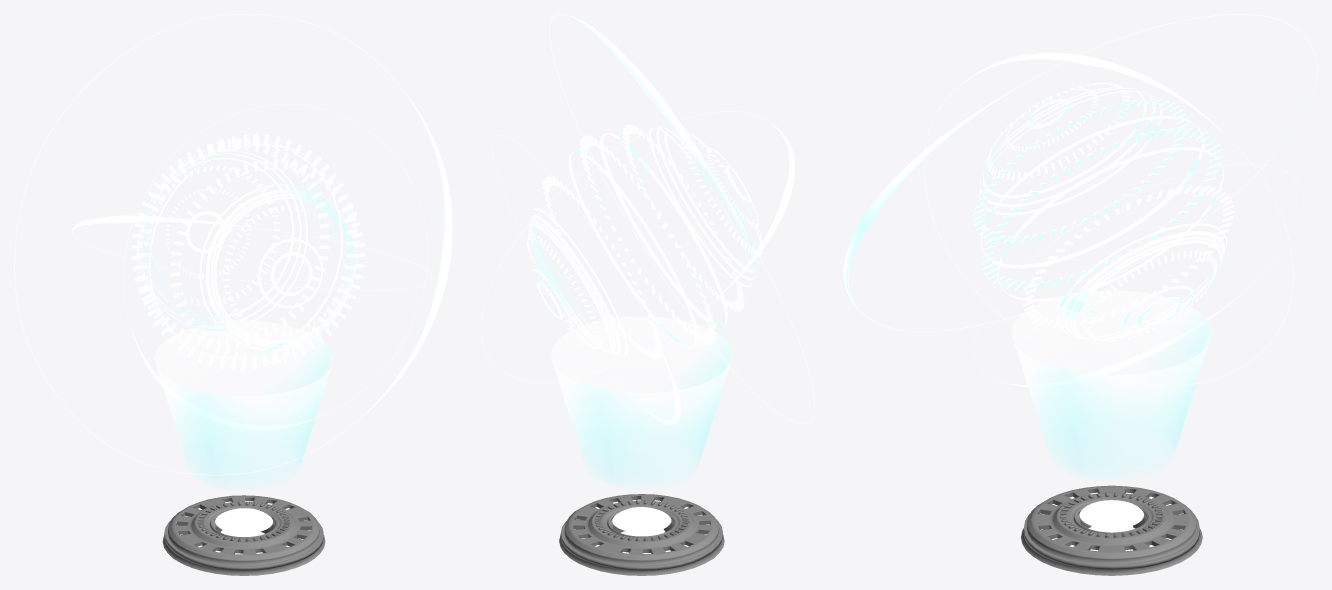
The picture shows the model from 3 angles, left to right: view 1: azimuth 30°, elevation 25°; view 2: azimuth 150°, elevation 25°; view 3: azimuth 270°, elevation 25°; orthographic projection. The views are drawn at different scales.
Visible parts, largest first — view 1: Cylinder.001, Circle, BezierCircle.006, Cube.011, Cube.016, Cube.014, BezierCircle.008, BezierCircle.007, Guia.014, Cube.004, Sphere.004, Cube.012 (+8 smaller); view 2: Cylinder.001, Circle, BezierCircle.006, Guia.017, BezierCircle.007, Cube.011, Guia.018, Cube.014, Cube.016, Cube.004, Guia.014, BezierCircle.008 (+8 smaller); view 3: Cylinder.001, Circle, BezierCircle.006, Cube.011, BezierCircle.007, Cube.016, Guia.017, Cube.014, BezierCircle.008, Guia.018, Cube.004, Guia.014 (+8 smaller).
Part boxes in pixels (x1=…): Cylinder.001: x1=154, y1=320, x2=333, y2=483; Circle: x1=162, y1=495, x2=325, y2=575; BezierCircle.006: x1=14, y1=14, x2=452, y2=475; Cube.011: x1=136, y1=134, x2=358, y2=370; Cube.016: x1=131, y1=139, x2=330, y2=349; Cube.014: x1=170, y1=159, x2=364, y2=365; BezierCircle.008: x1=123, y1=104, x2=427, y2=430; BezierCircle.007: x1=72, y1=215, x2=431, y2=290; Guia.014: x1=205, y1=189, x2=353, y2=347; Cube.004: x1=215, y1=508, x2=272, y2=533; Sphere.004: x1=143, y1=157, x2=294, y2=318; Cube.012: x1=147, y1=165, x2=279, y2=306; Cylinder.001: x1=550, y1=316, x2=733, y2=481; Circle: x1=559, y1=494, x2=724, y2=575; BezierCircle.006: x1=549, y1=14, x2=814, y2=423; Guia.017: x1=600, y1=133, x2=727, y2=327; BezierCircle.007: x1=481, y1=111, x2=794, y2=382; Cube.011: x1=579, y1=135, x2=715, y2=345; Guia.018: x1=568, y1=150, x2=698, y2=347; Cube.014: x1=542, y1=176, x2=662, y2=360; Cube.016: x1=622, y1=124, x2=744, y2=311; Cube.004: x1=612, y1=507, x2=671, y2=533; Guia.014: x1=530, y1=215, x2=620, y2=354; BezierCircle.008: x1=492, y1=135, x2=681, y2=424; Cylinder.001: x1=1011, y1=290, x2=1212, y2=472; Circle: x1=1021, y1=485, x2=1202, y2=575; BezierCircle.006: x1=843, y1=14, x2=1317, y2=331; Cube.011: x1=981, y1=127, x2=1222, y2=290; BezierCircle.007: x1=923, y1=53, x2=1293, y2=385; Cube.016: x1=973, y1=98, x2=1188, y2=244; Guia.017: x1=981, y1=115, x2=1204, y2=268; Cube.014: x1=1023, y1=185, x2=1234, y2=328; BezierCircle.008: x1=974, y1=163, x2=1303, y2=387; Guia.018: x1=997, y1=147, x2=1223, y2=301; Cube.004: x1=1079, y1=500, x2=1143, y2=528; Guia.014: x1=1064, y1=231, x2=1224, y2=339.
Size of the model in its own units: 3.28 by 4.93 by 3.72.
6 materials, 1 textured.
